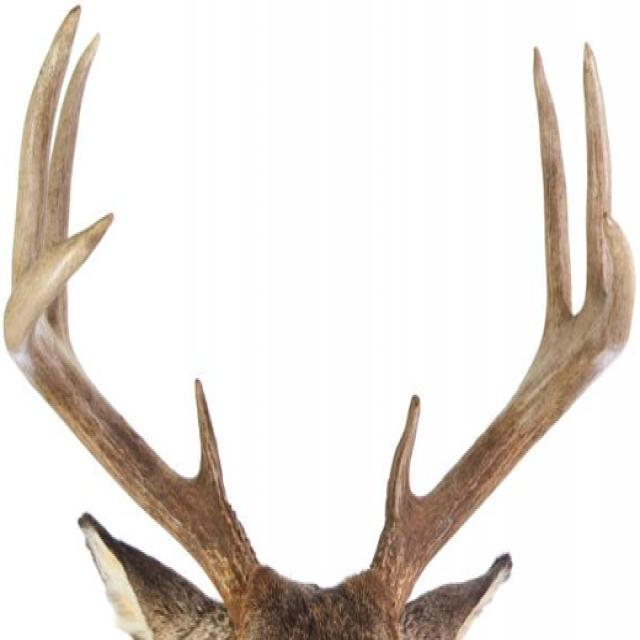L-F: (367, 213, 636, 616)
L-G1: (385, 393, 421, 524)
L-G2: (533, 44, 571, 326)
R-F: (4, 210, 267, 621)
R-G1: (195, 376, 231, 508)
